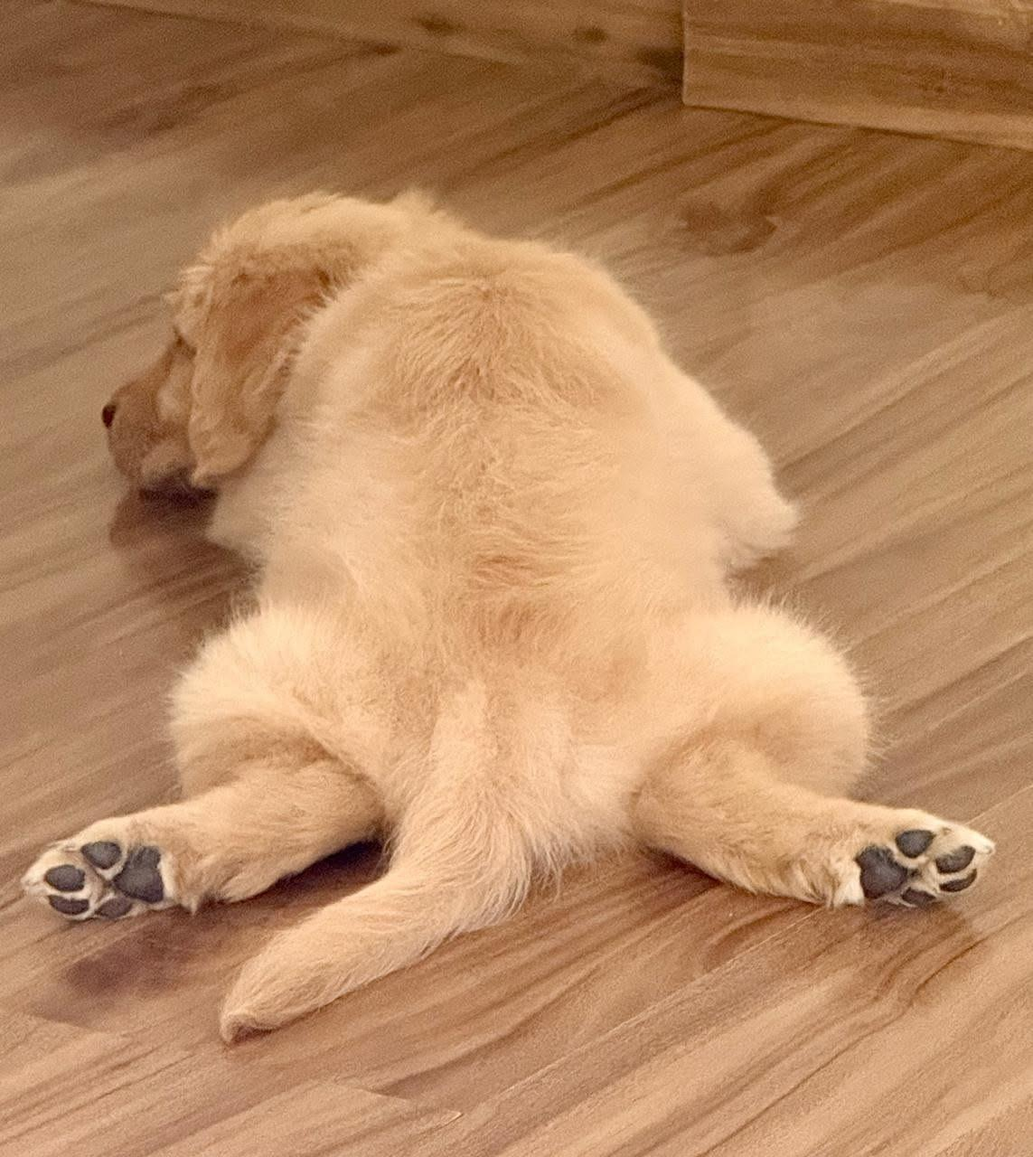puppy-dog: (23, 191, 1002, 1047)
